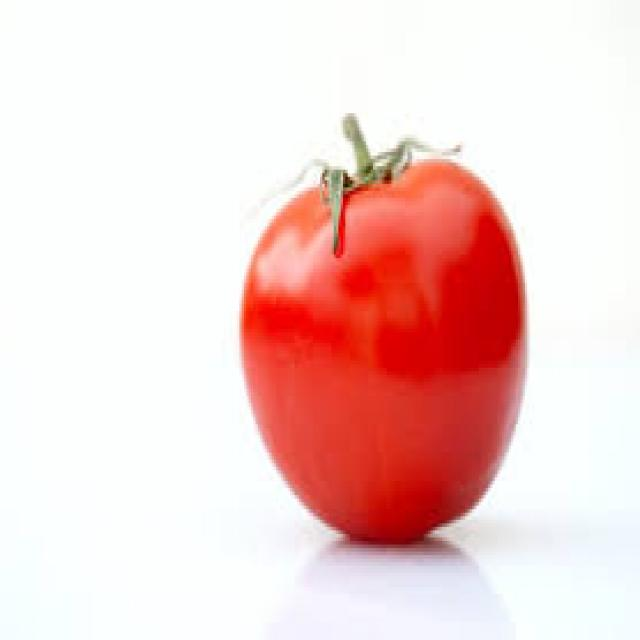organic waste: (239, 110, 525, 544)
